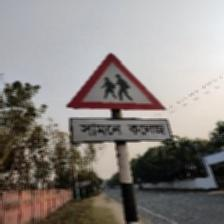College-in-front: (62, 38, 198, 164)
